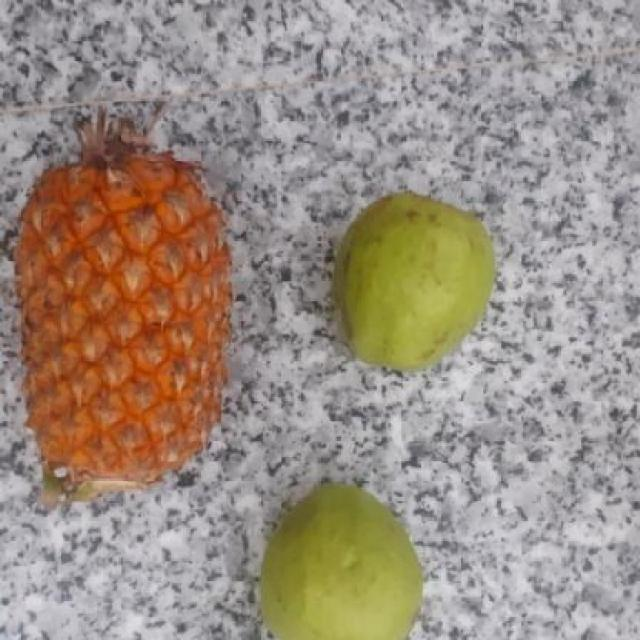guava: (319, 193, 490, 364), (252, 484, 426, 639)
pineapple: (13, 124, 227, 510)
